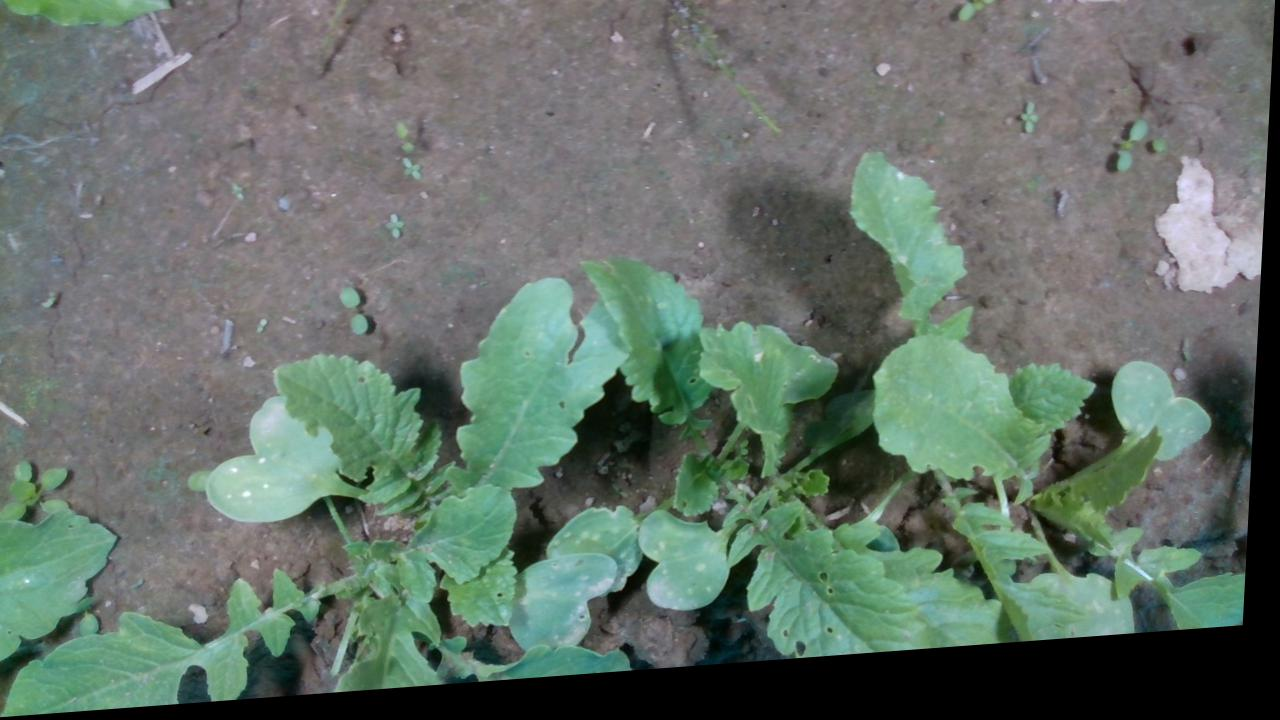weed: (338, 289, 374, 344), (1116, 134, 1150, 191), (955, 1, 999, 37), (399, 161, 426, 189), (1019, 115, 1041, 149), (384, 218, 408, 246)
